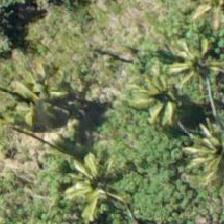coconut_tree: (122, 49, 212, 139), (44, 135, 134, 223), (143, 75, 223, 165), (0, 141, 86, 223), (147, 14, 223, 104), (169, 115, 223, 205)
